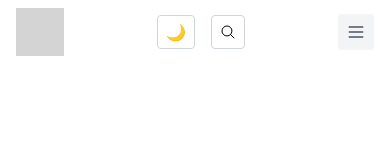
Test: Header › toggles mobile search when search button is clicked
This screenshot has width=390, height=160.
Click the button named "Search" at (228, 32), box [211, 15, 245, 49]
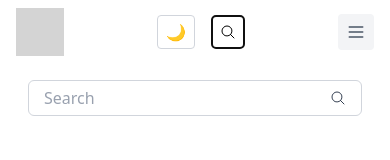
Now the number of fields with placeholder "Search" is 2
